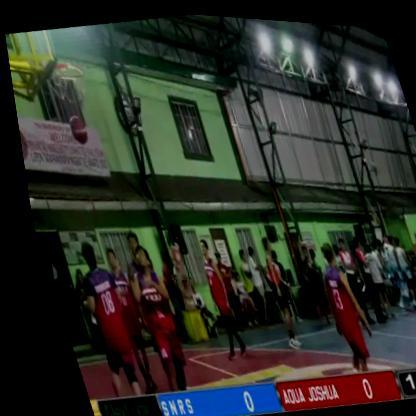basketball: (54, 106, 91, 146)
rim: (31, 43, 94, 117)
